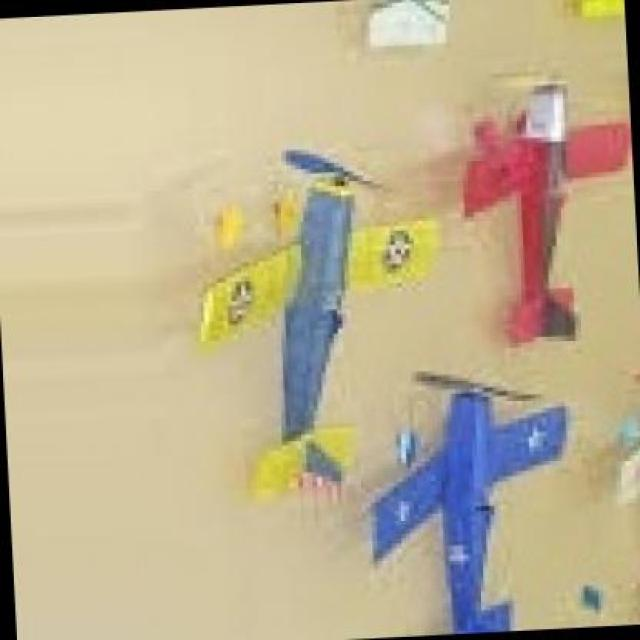iha: (198, 143, 443, 498), (371, 362, 567, 640), (450, 73, 639, 350), (401, 1, 416, 46)
